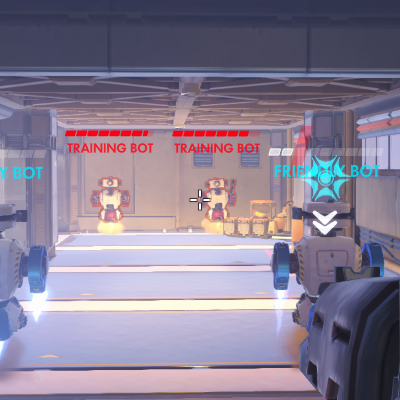hpbar: (65, 129, 154, 137), (172, 130, 260, 137)
